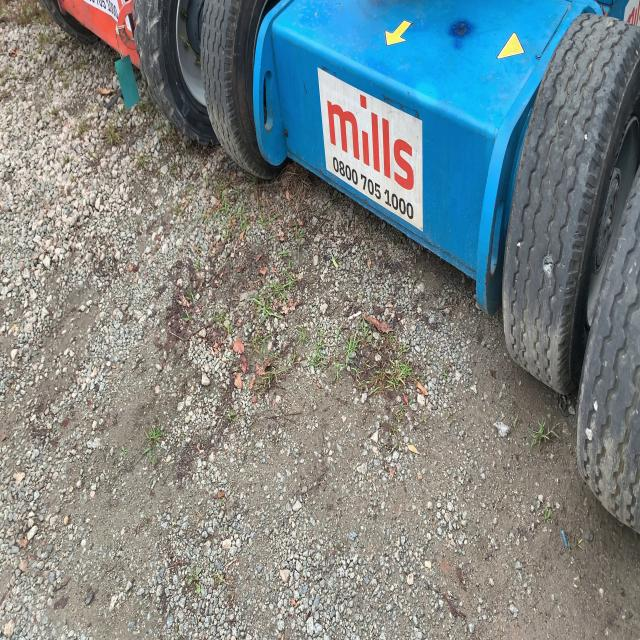Adesivos: (315, 66, 425, 237)
